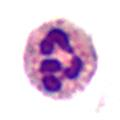neutrophil: (22, 17, 99, 101)
